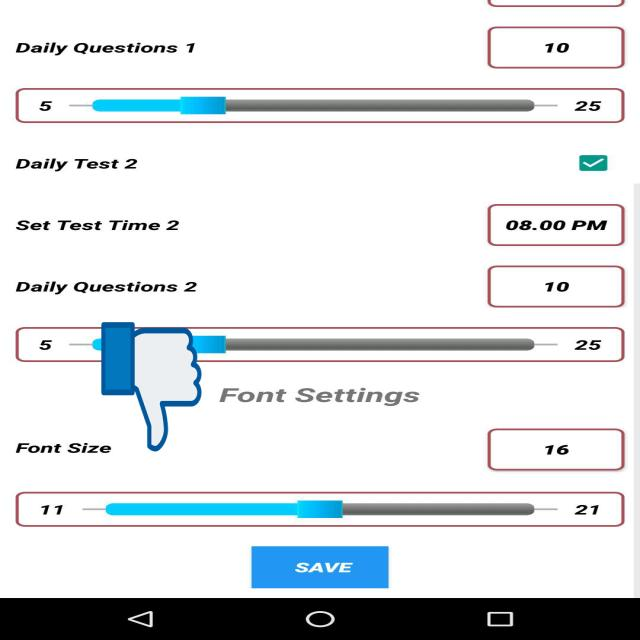obstruction: (102, 320, 202, 454)
